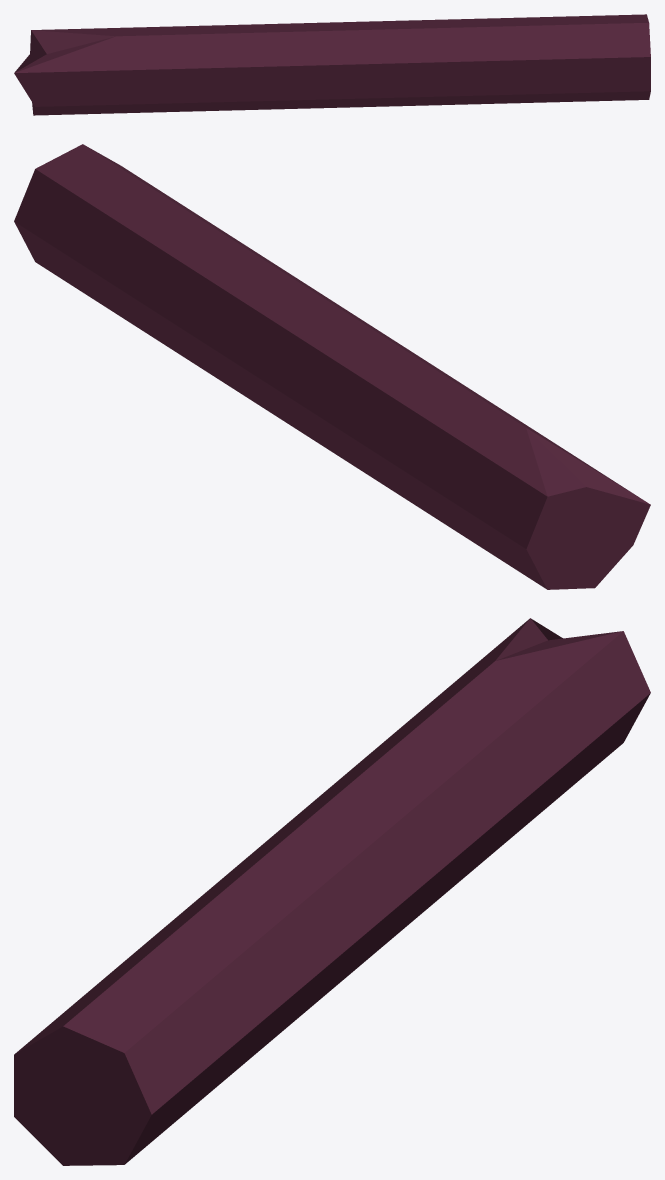
Rendered from log_003_grp.fbx.
3 views of the same model, one above another, from view 1: azimuth 30°, elevation 25°; view 2: azimuth 150°, elevation 25°; view 3: azimuth 270°, elevation 25° (orthographic). The views are drawn at different scales.
Visible parts, largest first — view 1: log_003_grp; view 2: log_003_grp; view 3: log_003_grp.
Part boxes in pixels (x1,y1,x2,y2): log_003_grp: (14,14,650,115); log_003_grp: (14,144,650,589); log_003_grp: (14,618,650,1165).
Bounding box in the file's own units: 286 × 40 × 165.
